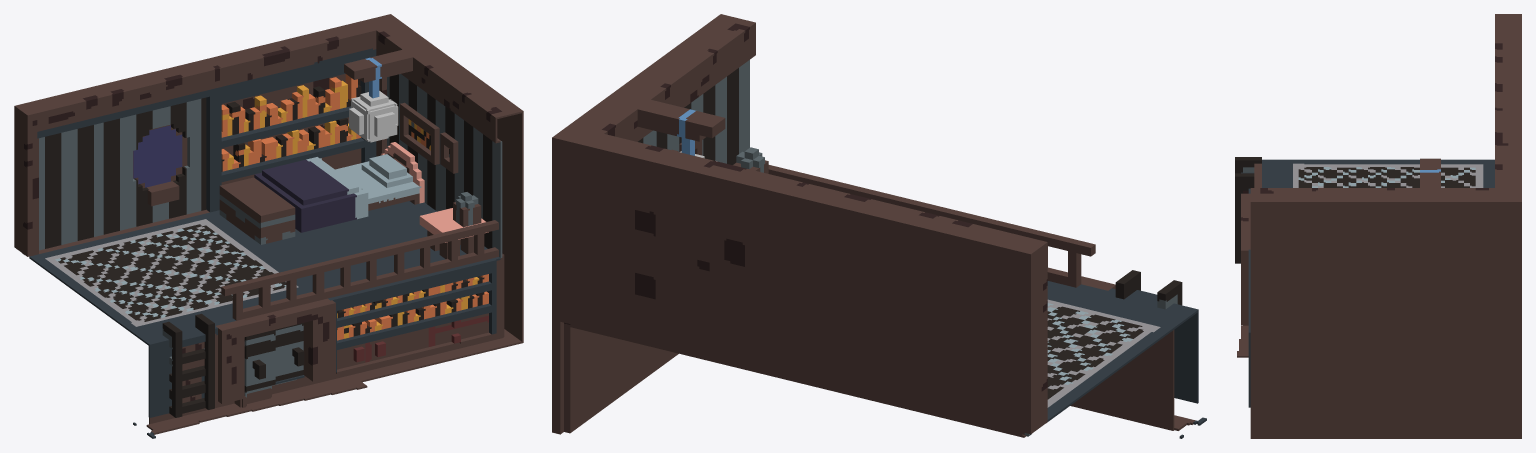
File: Sunkent City - Player House-2-bedroom.obj
The picture shows the model from 3 angles, left to right: view 1: azimuth 30°, elevation 25°; view 2: azimuth 150°, elevation 25°; view 3: azimuth 270°, elevation 25°; orthographic projection. The views are drawn at different scales.
Parts seen in each view (by area): view 1: bedroom; view 2: bedroom; view 3: bedroom.
Boxes of the visible parts, x1,y1,x2,y2 form: bedroom: (14, 14, 523, 438); bedroom: (552, 14, 1206, 438); bedroom: (1235, 14, 1521, 438).
Bounding box in the file's own units: 23.1 × 13.6 × 14.9.
Materials: 1 (1 with a texture image).
